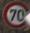Speed Limit -70-: (0, 0, 29, 32)
